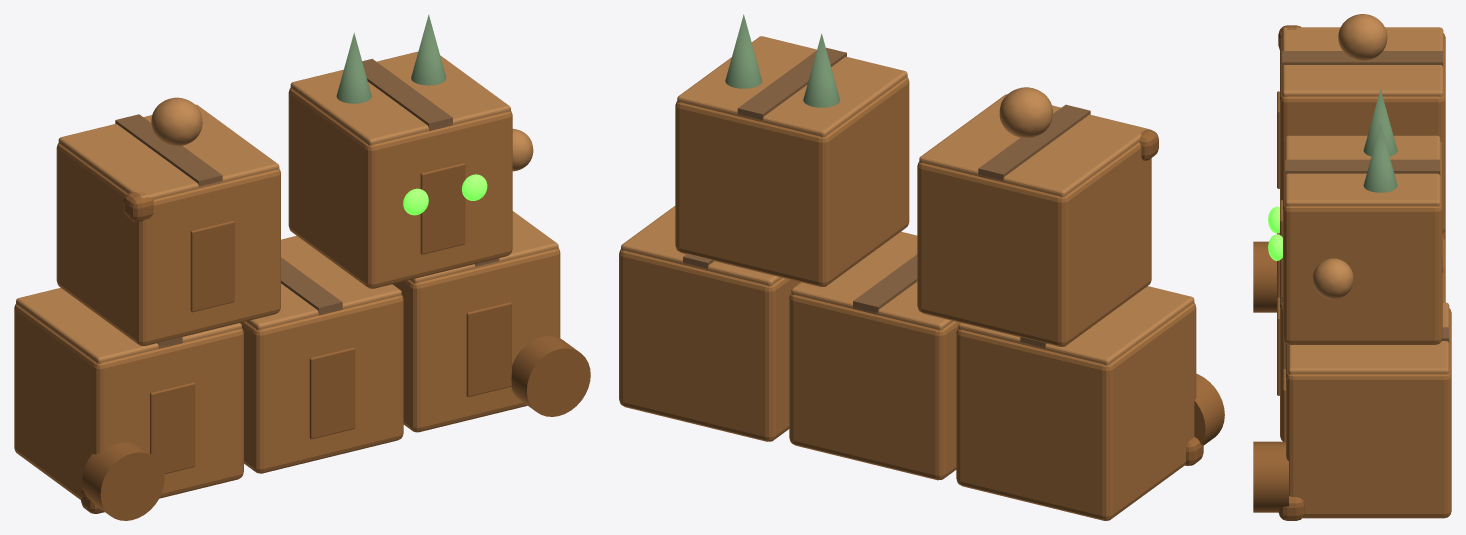
File: zc_cardboard_barricade.glb
3 views of the same model, side by side, from view 1: azimuth 30°, elevation 25°; view 2: azimuth 150°, elevation 25°; view 3: azimuth 270°, elevation 25° (orthographic). The views are drawn at different scales.
Visible parts, largest first — view 1: zc_cardboard_barricade; view 2: zc_cardboard_barricade; view 3: zc_cardboard_barricade.
Part boxes in pixels (x1,y1,x2,y2): zc_cardboard_barricade: (14, 14, 590, 520); zc_cardboard_barricade: (619, 14, 1224, 520); zc_cardboard_barricade: (1253, 14, 1451, 520).
Bounding box in the file's own units: 1.84 × 1.33 × 0.67.
Materials: 1 (1 with a texture image).
